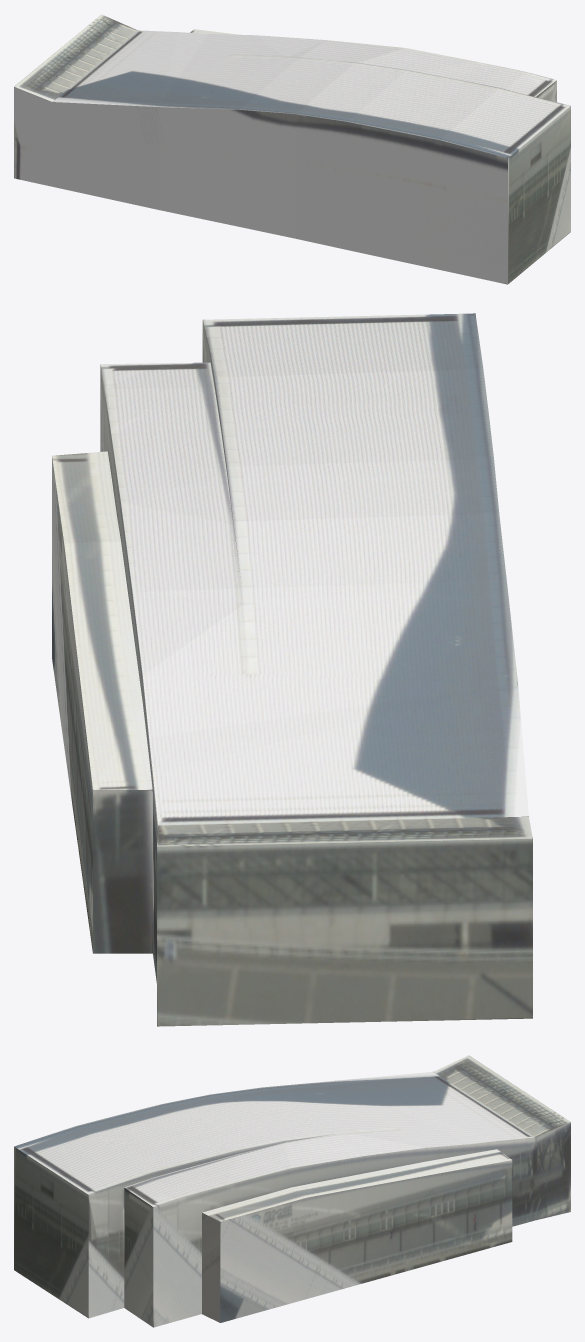
Rendered from unityexport4.obj.
3 views of the same model, one above another, from view 1: azimuth 30°, elevation 25°; view 2: azimuth 150°, elevation 25°; view 3: azimuth 270°, elevation 25° (orthographic). The views are drawn at different scales.
Visible parts, largest first — view 1: Baked Mesh 77; view 2: Baked Mesh 77; view 3: Baked Mesh 77.
Part boxes in pixels (x1,y1,x2,y2): Baked Mesh 77: (14, 14, 570, 284); Baked Mesh 77: (52, 313, 532, 1026); Baked Mesh 77: (14, 1055, 570, 1327).
Size of the model in its own units: 65.53 by 21.27 by 84.52.
